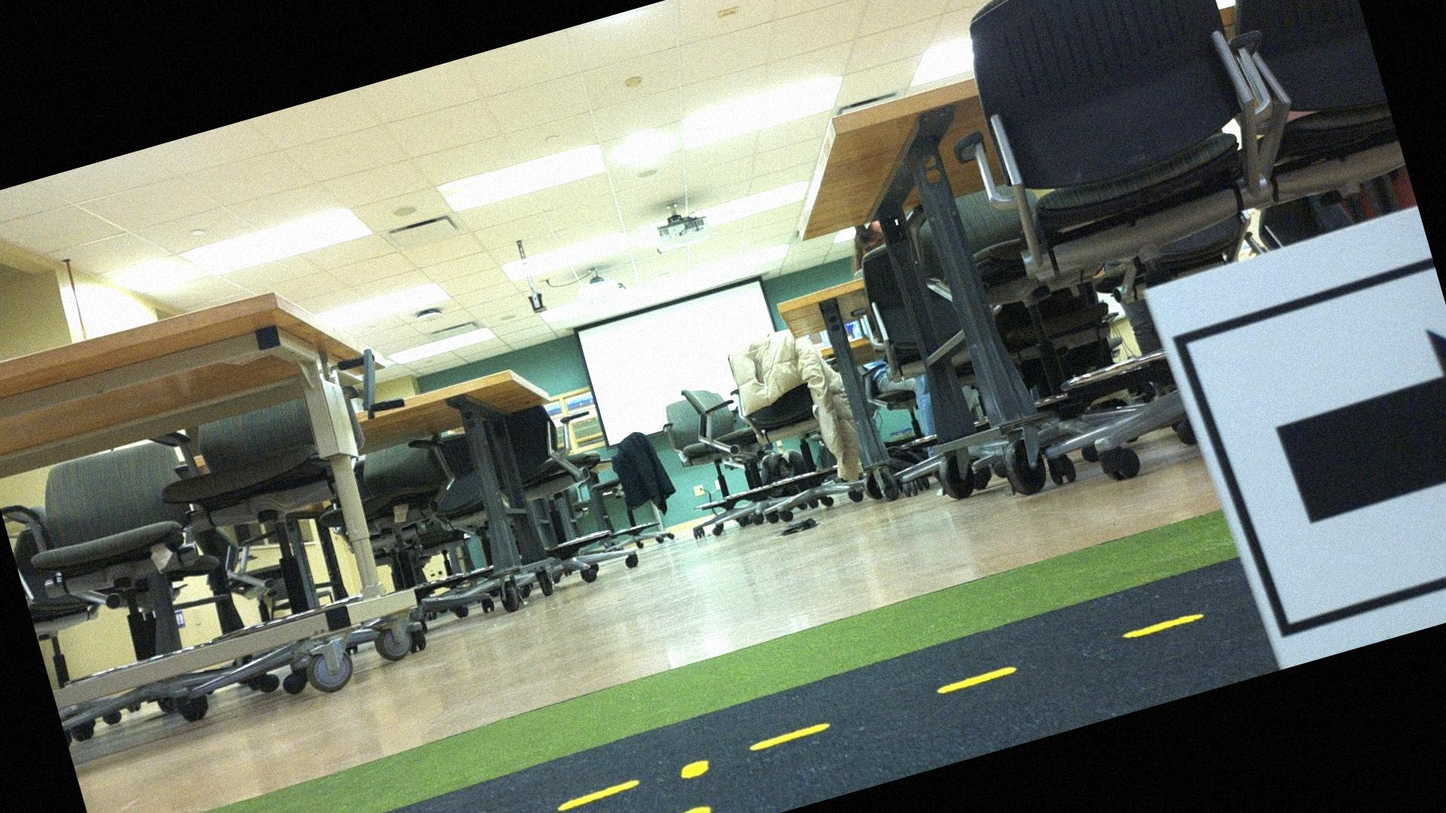yellowline: (140, 608, 1205, 812)
